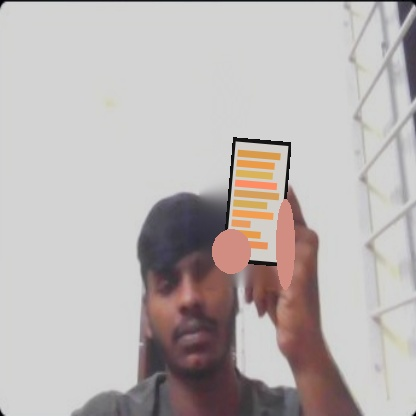cell_phone: (222, 137, 291, 266)
